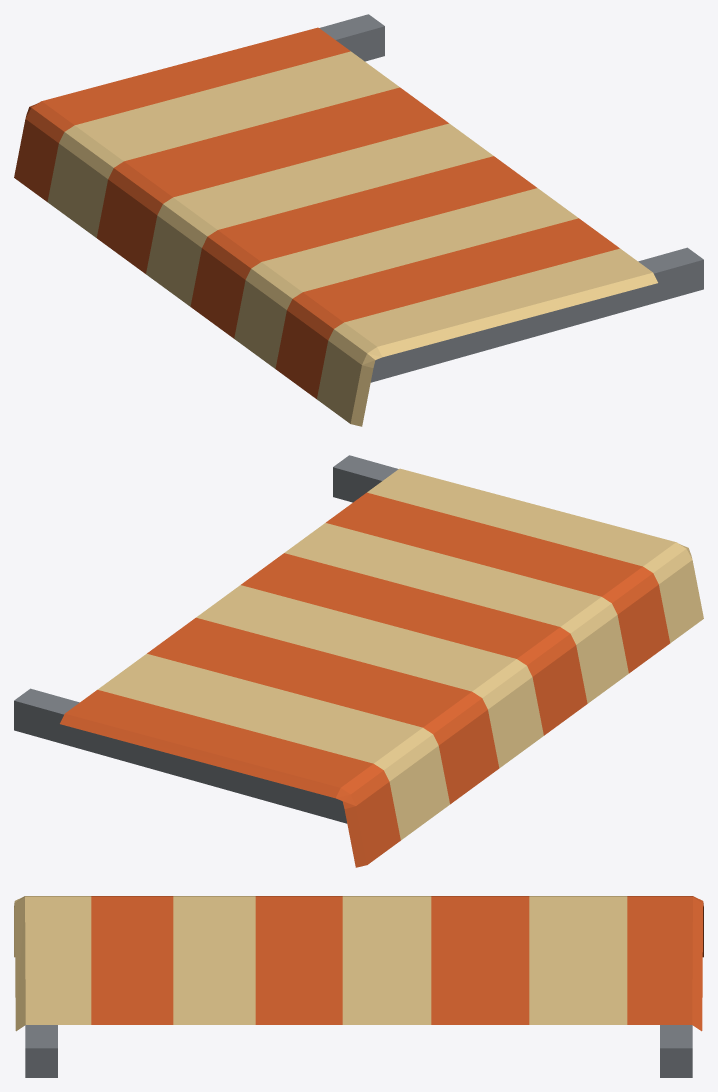
File: SM_Shed_1.fbx
3 renders of one model, top to bottom at view 1: azimuth 30°, elevation 25°; view 2: azimuth 150°, elevation 25°; view 3: azimuth 270°, elevation 25°, orthographic.
Visible parts, largest first — view 1: SM_Shed_1_LOD0; view 2: SM_Shed_1_LOD0; view 3: SM_Shed_1_LOD0.
Part boxes in pixels (x1=…): SM_Shed_1_LOD0: x1=14, y1=14, x2=703, y2=426; SM_Shed_1_LOD0: x1=14, y1=455, x2=703, y2=867; SM_Shed_1_LOD0: x1=14, y1=896, x2=703, y2=1077.
Size of the model in its own units: 235 by 399 by 49.72.
Materials: 1 (1 with a texture image).
